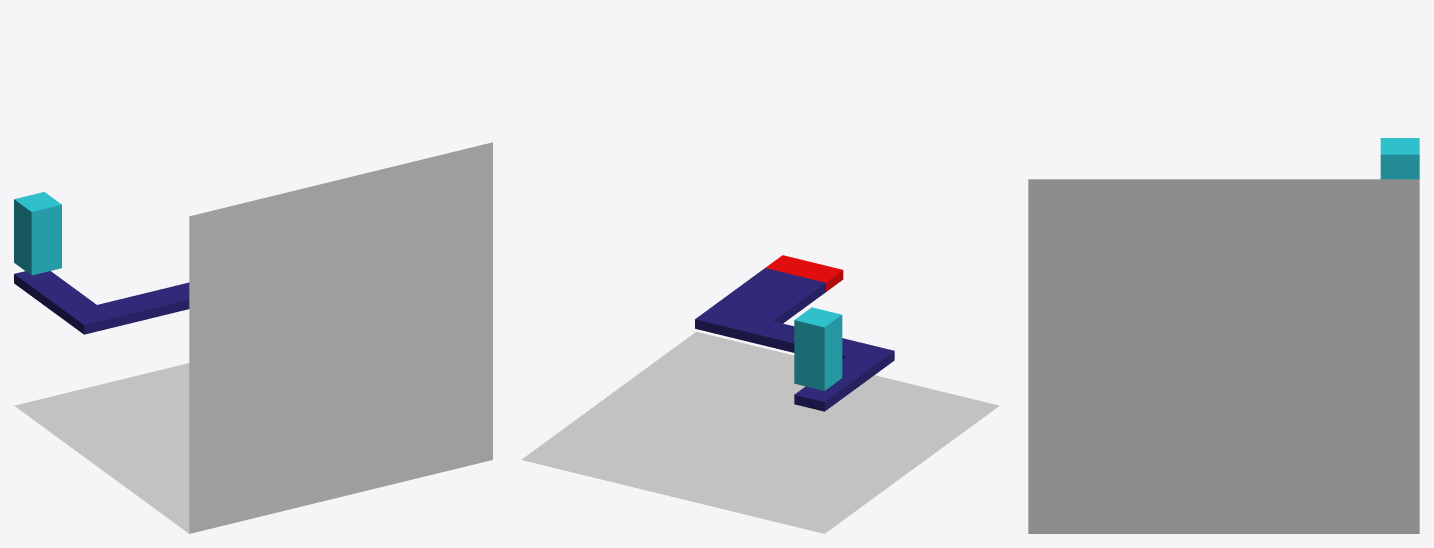
The model's file is test_level.glb.
3 views of the same model, side by side, from view 1: azimuth 30°, elevation 25°; view 2: azimuth 150°, elevation 25°; view 3: azimuth 270°, elevation 25° (orthographic). The views are drawn at different scales.
Visible parts, largest first — view 1: Plane.002, Plane, Cube, Cube.001, Cube.002; view 2: Plane, Cube.003, Cube, Cube.001, Cube.002, Cube.004; view 3: Plane.001, Cube.
Boxes of the visible parts, x1,y1,x2,y2 form: Plane.002: (189, 142, 492, 533); Plane: (14, 363, 189, 533); Cube: (14, 192, 61, 275); Cube.001: (14, 271, 114, 334); Cube.002: (97, 282, 189, 326); Plane: (521, 331, 999, 533); Cube.003: (695, 268, 825, 335); Cube: (794, 307, 842, 390); Cube.001: (794, 343, 894, 411); Cube.002: (725, 314, 863, 359); Cube.004: (765, 255, 843, 291); Plane.001: (1028, 179, 1419, 533); Cube: (1380, 138, 1419, 179).
Bounding box in the file's own units: 20 × 20 × 20.
